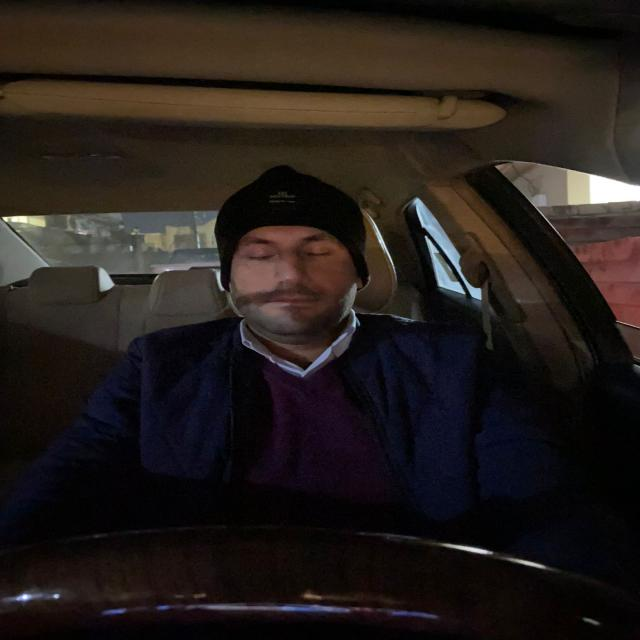drowsy: (203, 162, 384, 350)
